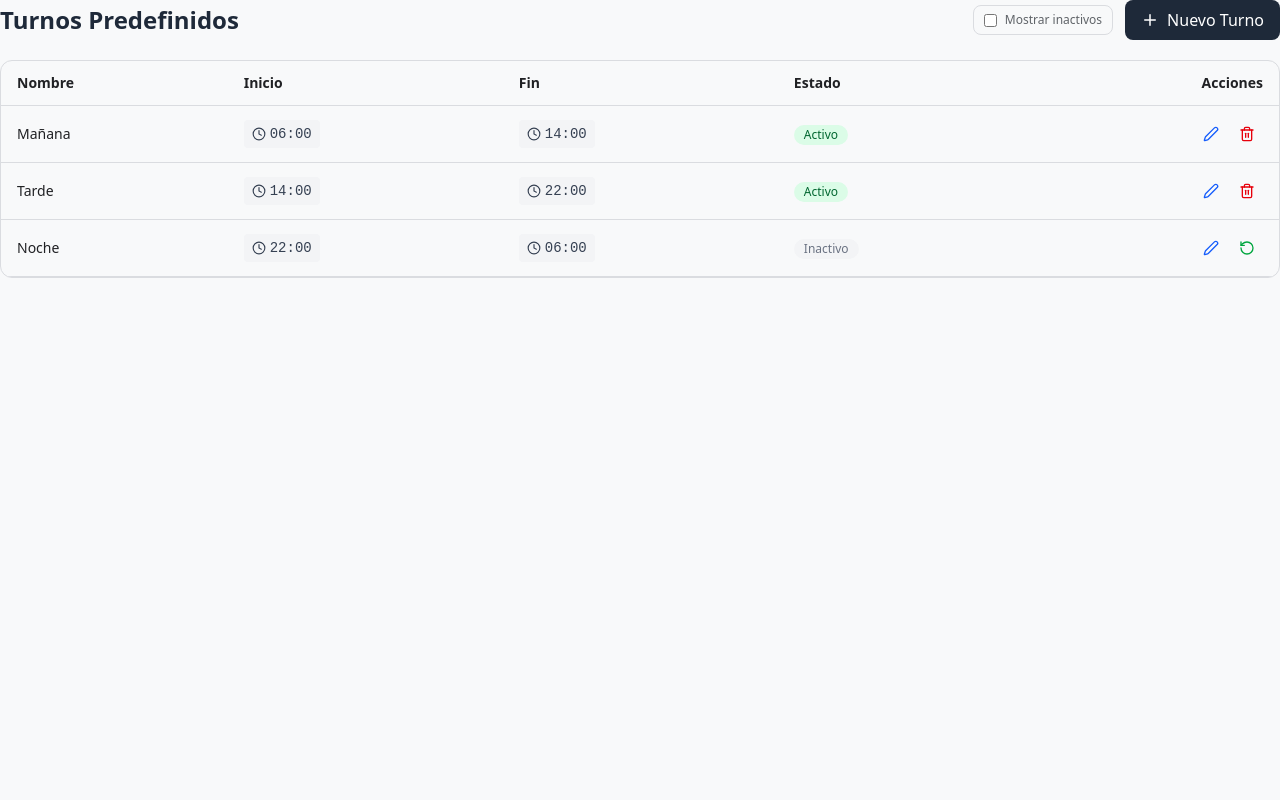
Test: ShiftPresetsPage › abre modal de edicion al hacer click en editar
This screenshot has width=1280, height=800.
Step 1. Click the button named "Editar" in the row of "Mañana" → (1211, 134), box [1195, 118, 1227, 150]
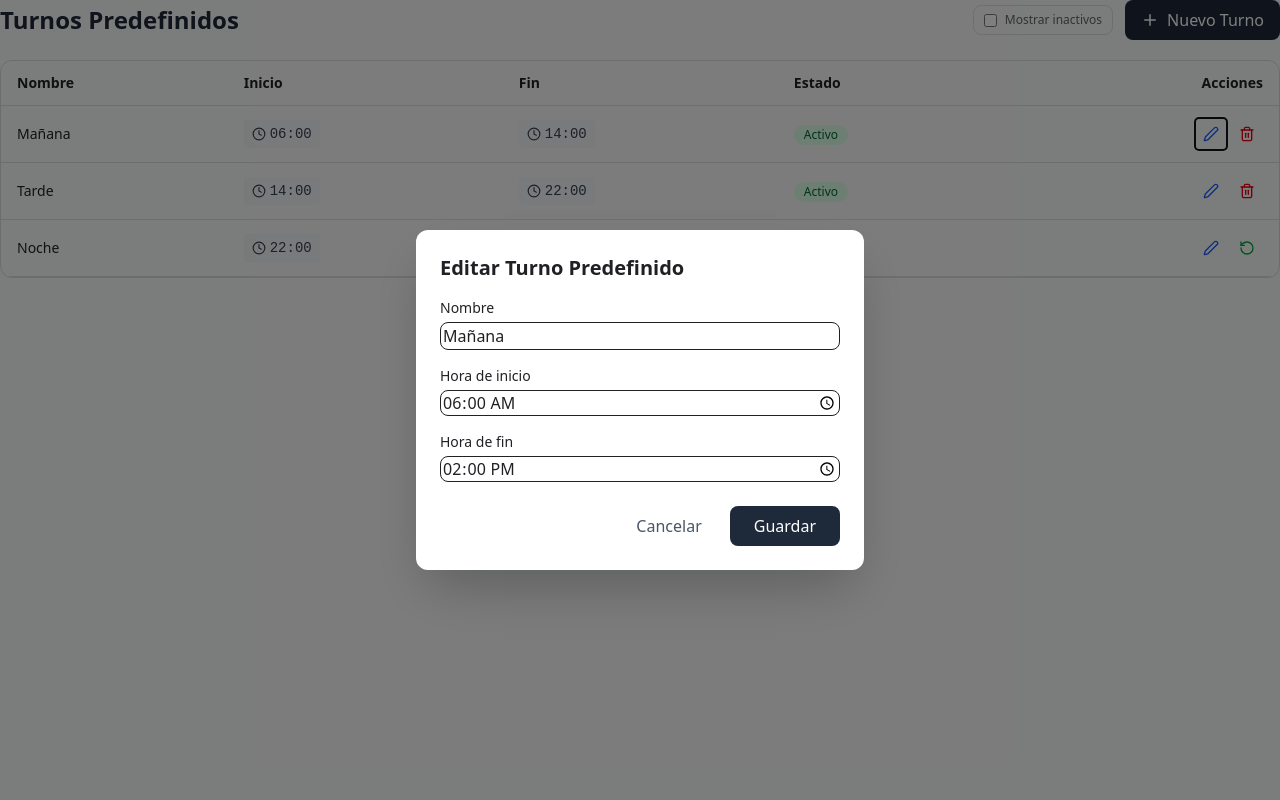
expect the heading "Editar Turno Predefinido" is shown: met, box [440, 254, 684, 281]
